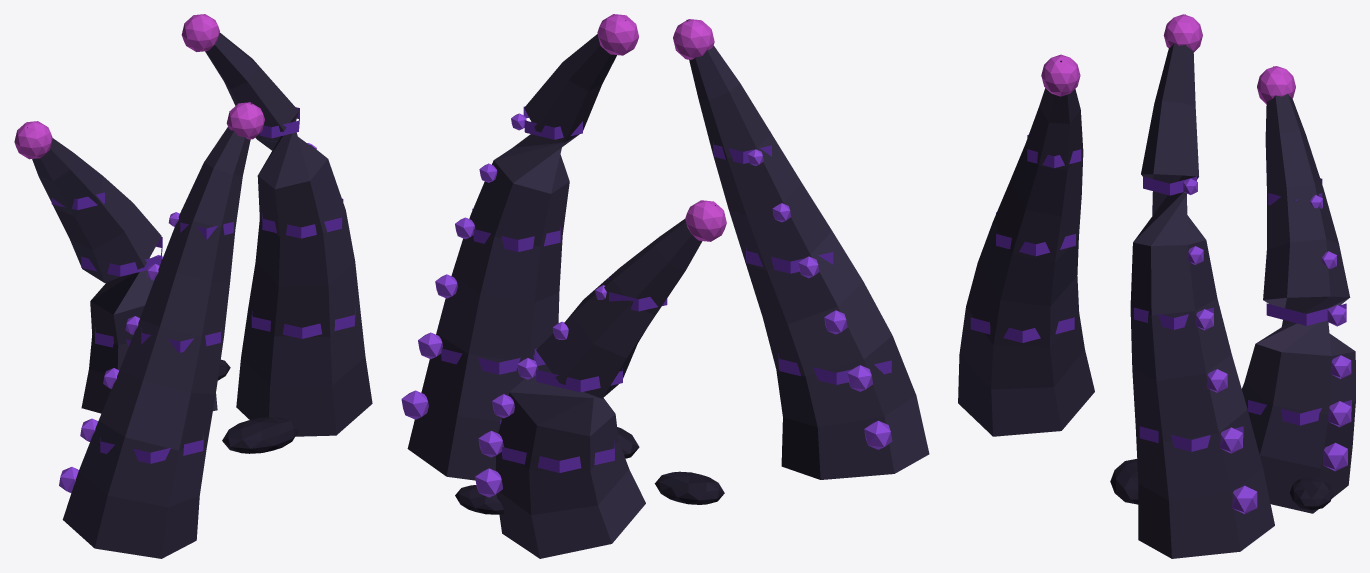
Rendered from Decor_VoidPortal_Tentacles.fbx.
3 views of the same model, side by side, from view 1: azimuth 30°, elevation 25°; view 2: azimuth 150°, elevation 25°; view 3: azimuth 270°, elevation 25° (orthographic). The views are drawn at different scales.
Visible parts, largest first — view 1: Tentacles_Body; view 2: Tentacles_Body; view 3: Tentacles_Body.
Part boxes in pixels (left/top/right/bottom): Tentacles_Body: left=14, top=14, right=372, bottom=558; Tentacles_Body: left=401, top=14, right=929, bottom=558; Tentacles_Body: left=958, top=14, right=1355, bottom=558.
Bounding box in the file's own units: 17 × 19.7 × 15.
